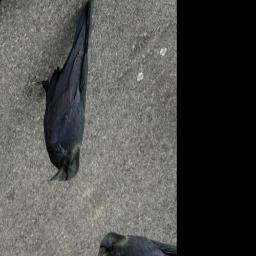Crow: (1, 0, 147, 198)
